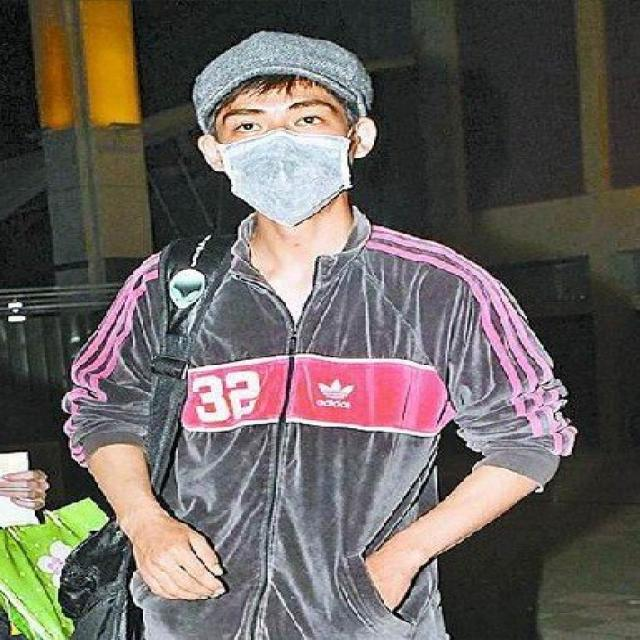mask: (216, 66, 349, 217)
